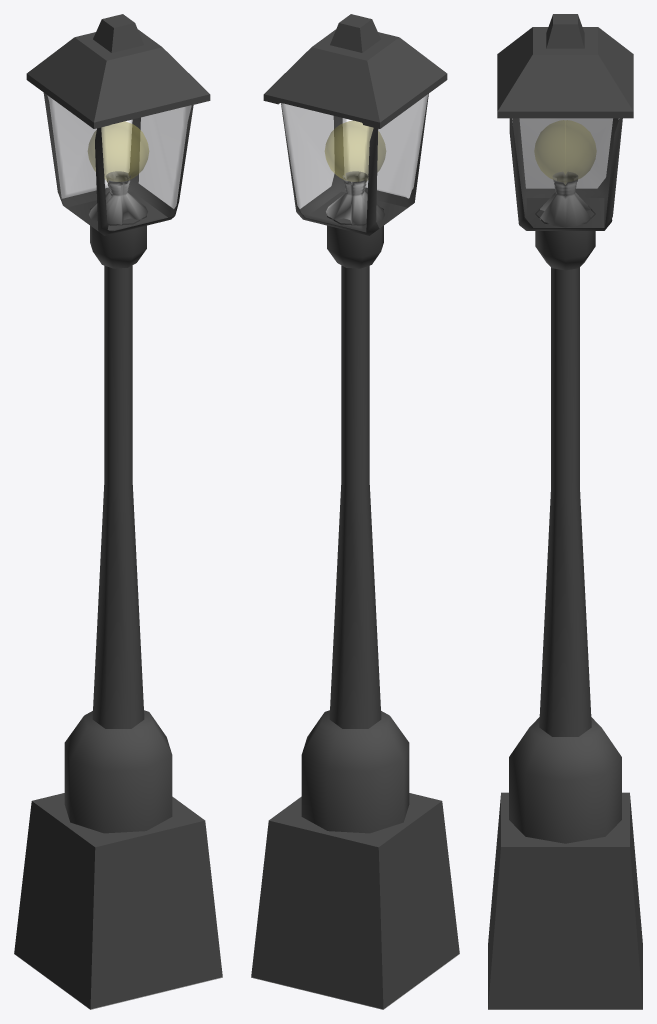
Rendered from Lampara.obj.
3 views of the same model, side by side, from view 1: azimuth 30°, elevation 25°; view 2: azimuth 150°, elevation 25°; view 3: azimuth 270°, elevation 25° (orthographic).
Visible parts, largest first — view 1: ParkLamp_Untitled_189, Sphere; view 2: ParkLamp_Untitled_189, Sphere; view 3: ParkLamp_Untitled_189, Sphere.
Boxes of the visible parts, <box> form: ParkLamp_Untitled_189: <box>14,14,222,1009</box>; Sphere: <box>88,121,149,224</box>; ParkLamp_Untitled_189: <box>251,14,459,1009</box>; Sphere: <box>324,120,385,224</box>; ParkLamp_Untitled_189: <box>488,14,642,1009</box>; Sphere: <box>534,120,596,227</box>.
Bounding box in the file's own units: 0.4832 × 3.3 × 0.4832.
